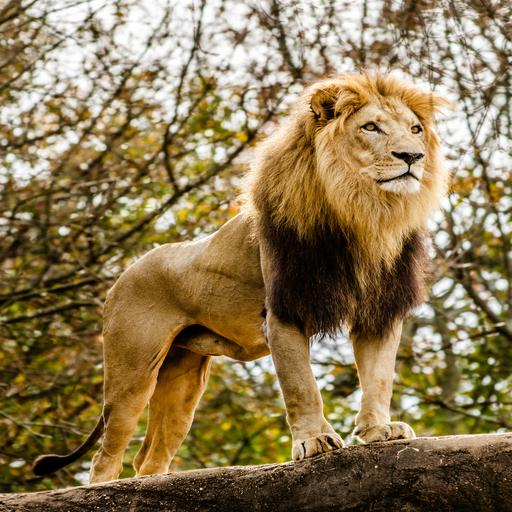Lion: (26, 68, 456, 502)
